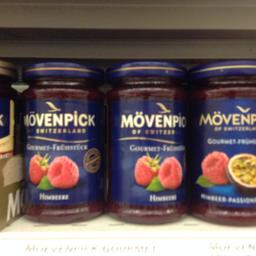jam: (20, 60, 106, 222), (104, 60, 187, 226), (188, 60, 254, 226)
